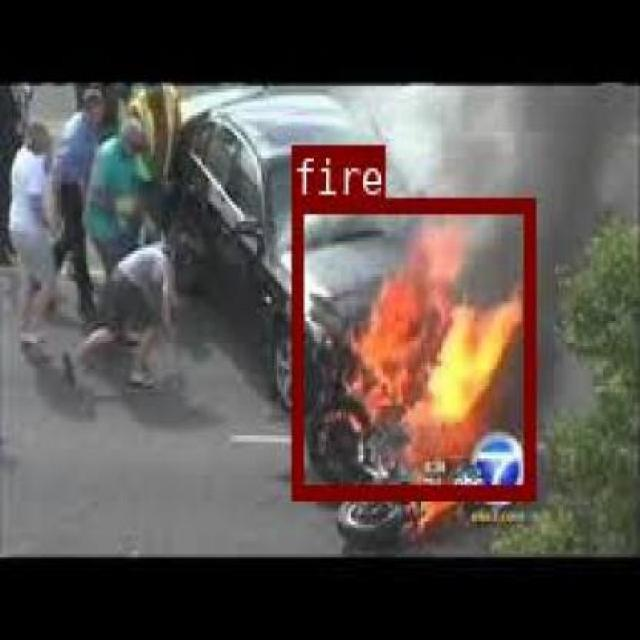Fire: (290, 195, 533, 497)
